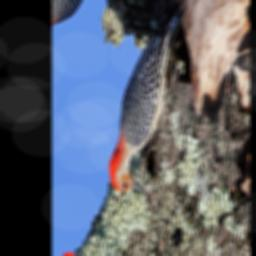Woodpecker: (91, 0, 216, 221)
